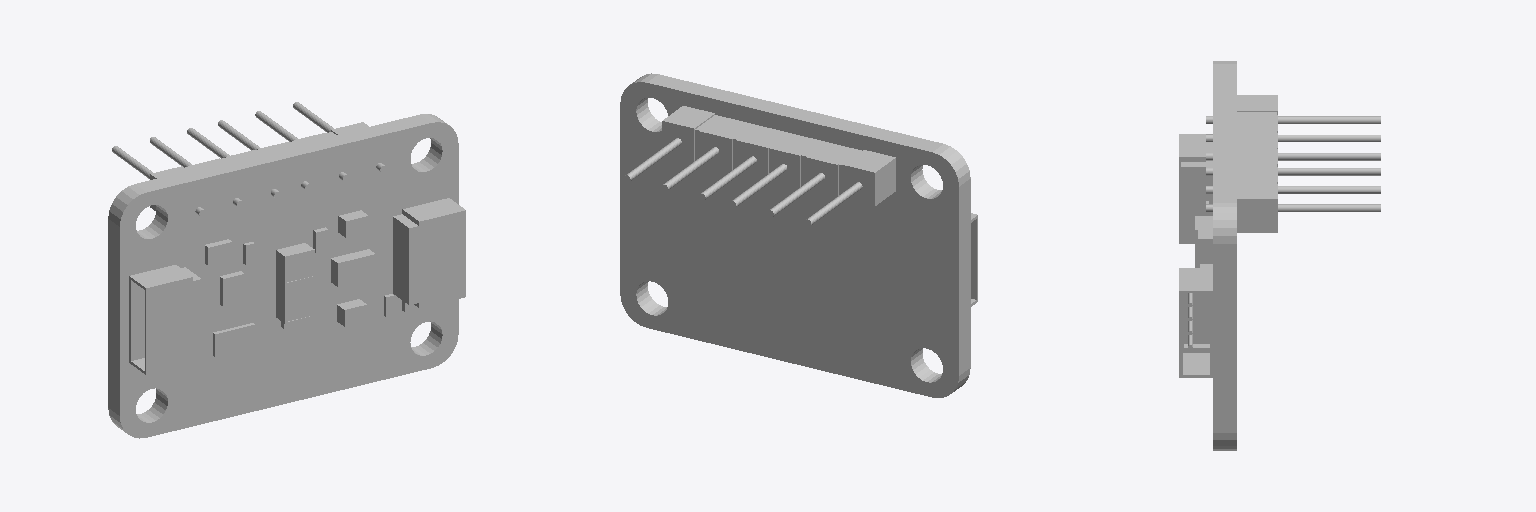
The model's file is Canden - Time_of_Flight Sensor v3.obj.
3 renders of one model, left to right at view 1: azimuth 30°, elevation 25°; view 2: azimuth 150°, elevation 25°; view 3: azimuth 270°, elevation 25°, orthographic.
Parts seen in each view (by area): view 1: Body1, Body3, Body5, Body7, Body18, Body22, Body20, Body13, Body11, Body9, Body15; view 2: Body1, Body22, Body5, Body24, Body25, Body27, Body23; view 3: Body1, Body22, Body3, Body5, Body23, Body24, Body26, Body27, Body28, Body25.
Boxes of the visible parts, <box> form: Body1: <box>108,114,458,438</box>; Body3: <box>393,198,465,308</box>; Body5: <box>129,265,201,374</box>; Body7: <box>276,243,314,323</box>; Body18: <box>331,249,375,286</box>; Body22: <box>150,122,368,210</box>; Body20: <box>213,323,254,356</box>; Body13: <box>220,271,244,306</box>; Body11: <box>338,210,368,237</box>; Body9: <box>337,299,366,326</box>; Body15: <box>205,239,232,265</box>; Body1: <box>620,73,970,397</box>; Body22: <box>662,106,895,205</box>; Body5: <box>971,213,977,306</box>; Body24: <box>805,182,862,226</box>; Body25: <box>767,173,824,216</box>; Body27: <box>699,156,756,200</box>; Body23: <box>624,138,681,181</box>; Body1: <box>1213,61,1236,450</box>; Body22: <box>1237,95,1277,232</box>; Body3: <box>1179,268,1212,377</box>; Body5: <box>1179,134,1212,243</box>; Body23: <box>1278,204,1380,211</box>; Body24: <box>1278,116,1380,123</box>; Body26: <box>1278,186,1380,193</box>; Body27: <box>1278,168,1380,175</box>; Body28: <box>1278,153,1380,160</box>; Body25: <box>1278,135,1380,141</box>.
Bounding box in the file's own units: 2.53 × 1.75 × 1.3.